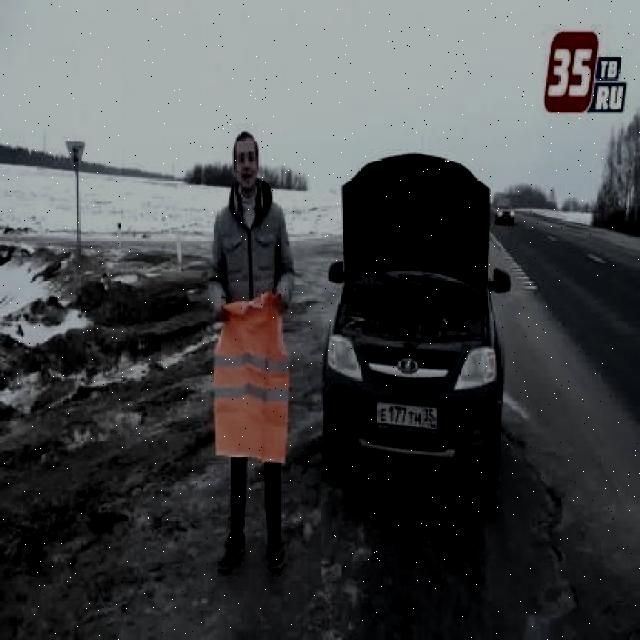Mask: (212, 290, 292, 468)
